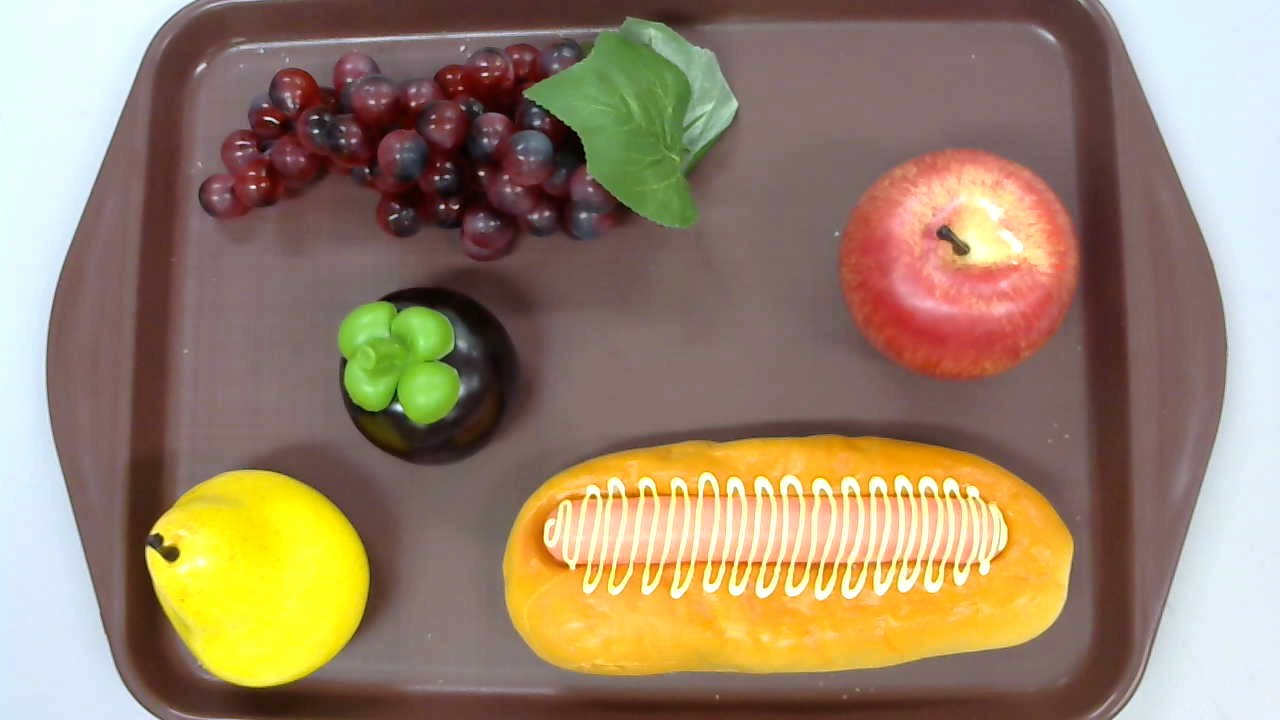grape: (198, 16, 740, 263)
hot dog: (503, 432, 1074, 676)
mangosteen: (338, 286, 523, 465)
red apple: (839, 146, 1080, 386)
yellow pear: (145, 467, 370, 689)
